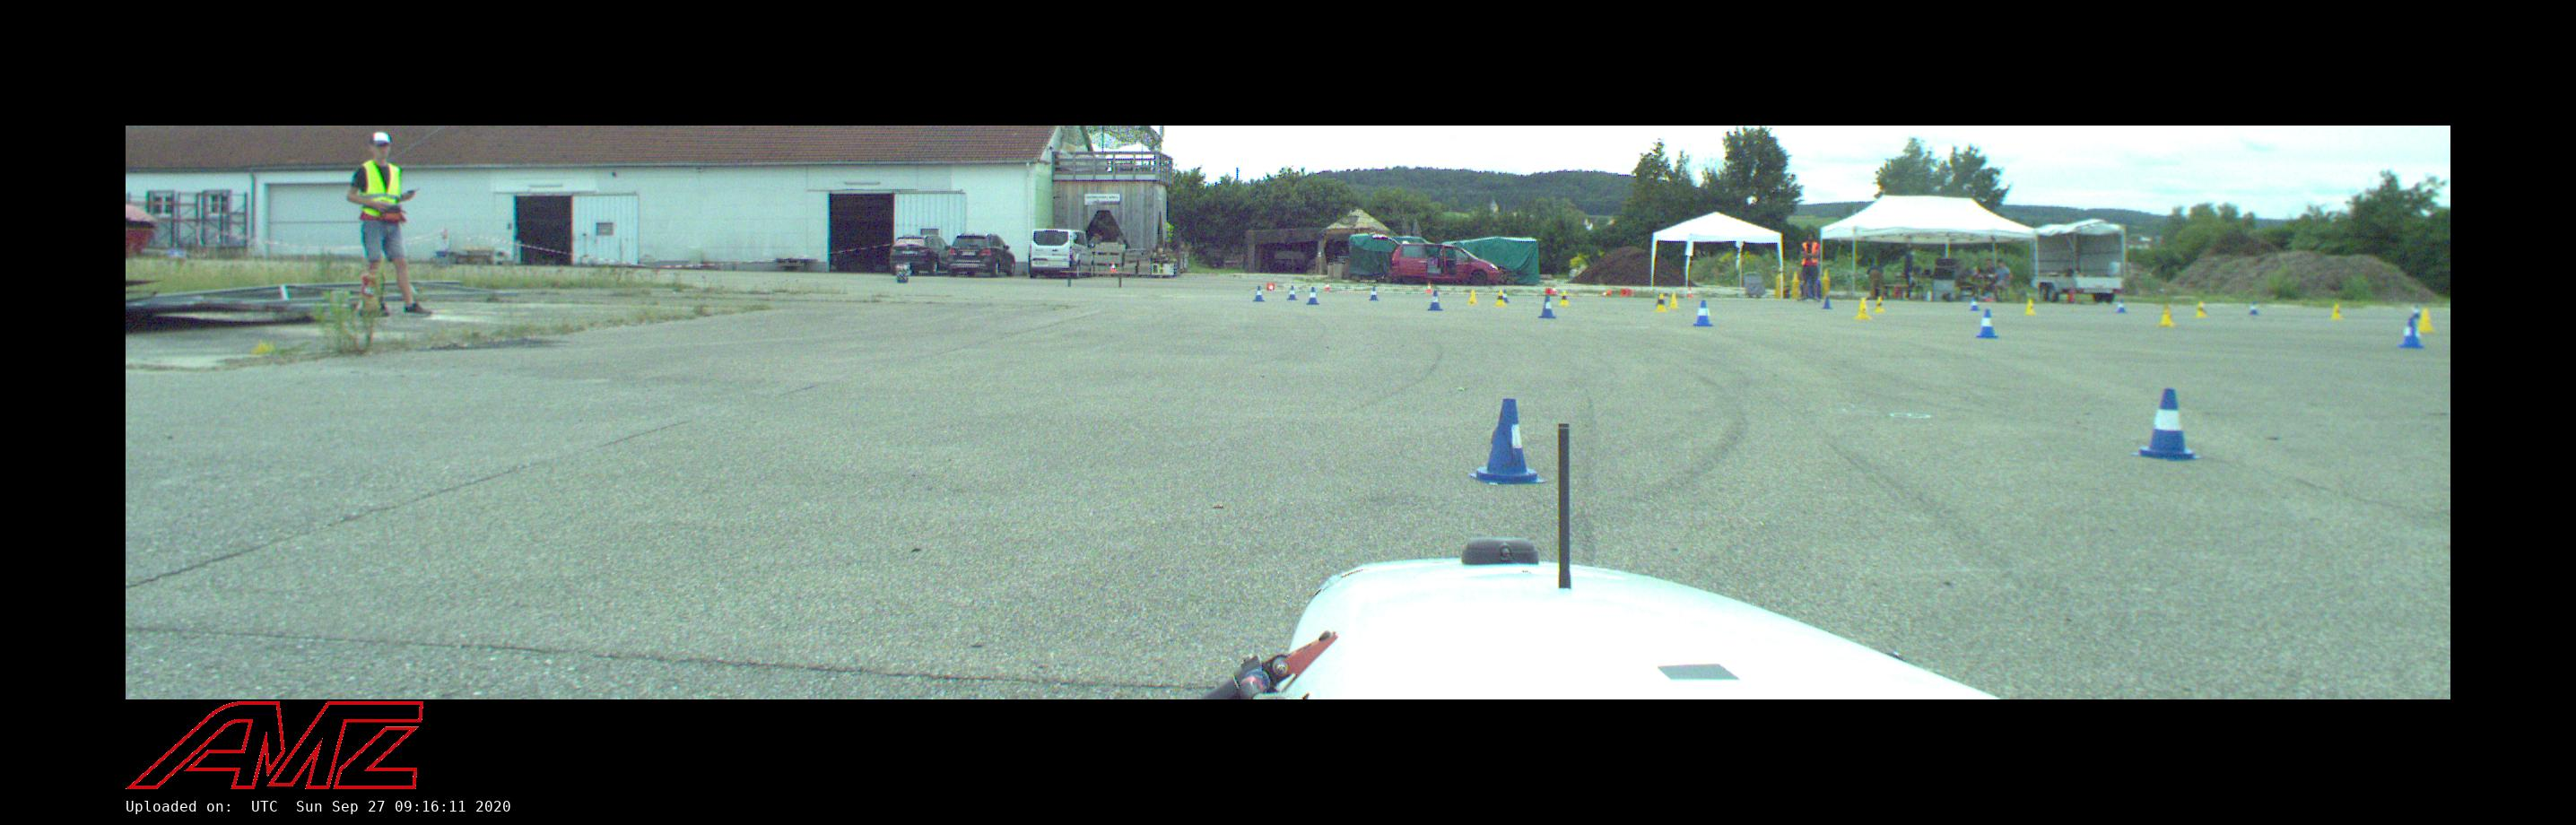blue_cone: (1469, 398, 1545, 484), (2131, 389, 2198, 459), (2398, 318, 2425, 348), (1976, 309, 1998, 338), (1693, 300, 1714, 326), (1538, 297, 1556, 318), (1428, 291, 1442, 310), (1307, 287, 1319, 305), (1253, 286, 1265, 301), (1369, 287, 1379, 300), (1822, 296, 1832, 308), (1287, 286, 1297, 300), (2249, 302, 2259, 314), (2116, 300, 2127, 312), (1970, 298, 1980, 310), (1502, 290, 1510, 303)
yellow_cone: (2418, 308, 2434, 332), (1855, 298, 1872, 319), (2158, 307, 2174, 326), (1653, 294, 1667, 312), (2330, 303, 2343, 319), (1667, 293, 1680, 308), (2195, 302, 2206, 317), (2024, 300, 2036, 315), (1875, 297, 1884, 312), (1496, 291, 1506, 306), (1467, 291, 1477, 305), (1560, 291, 1569, 305)
